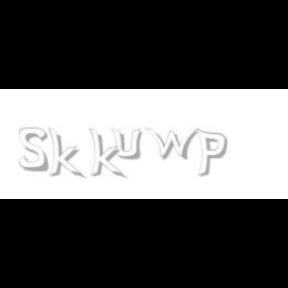P: (196, 128, 228, 178)
S: (18, 128, 50, 172)
k: (47, 128, 85, 180), (88, 128, 126, 180)
u: (110, 128, 145, 160)
w: (144, 128, 204, 160)
